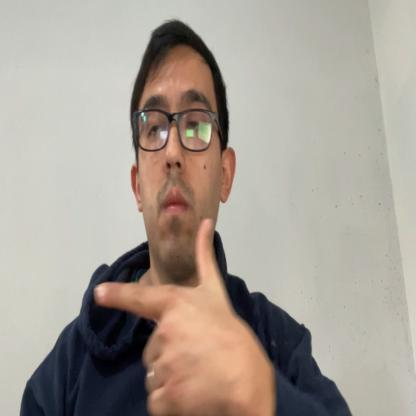G: (94, 216, 251, 415)
